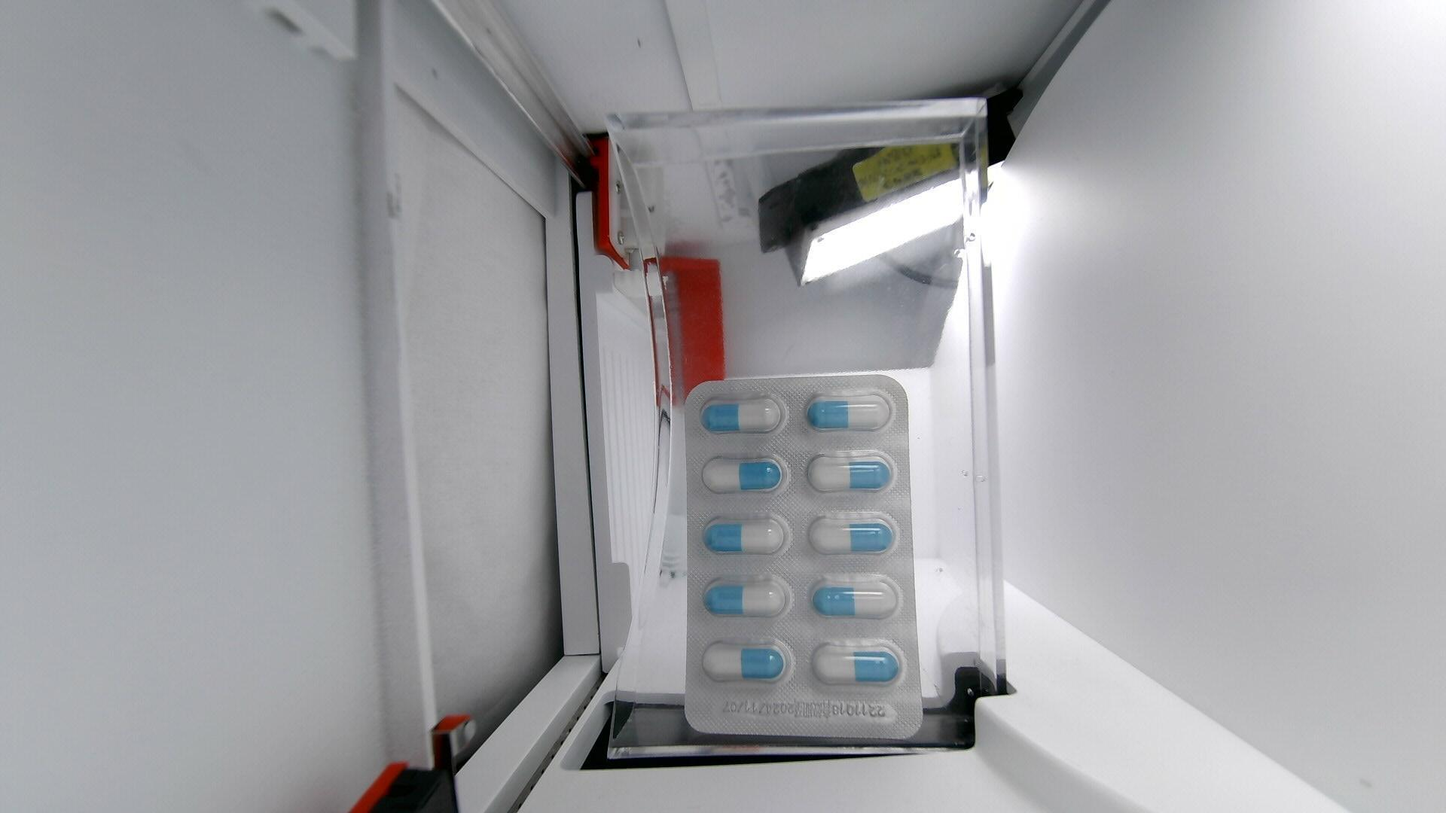Light Front: (684, 373, 922, 740)
Pill Front: (809, 513, 898, 554), (703, 641, 786, 681), (816, 645, 900, 684), (813, 581, 898, 618), (810, 455, 892, 492), (704, 580, 786, 617), (700, 397, 784, 433), (808, 394, 890, 430), (702, 458, 784, 493), (705, 519, 784, 553)
